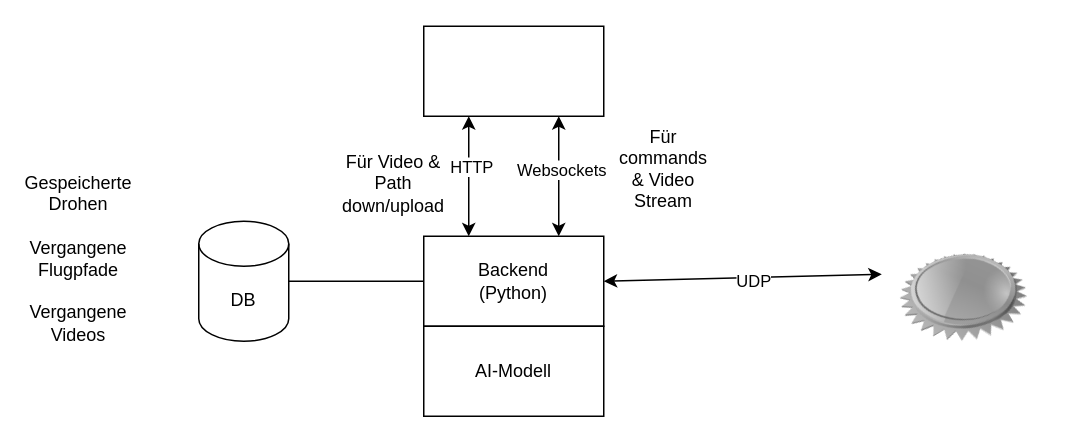
Some shapes in this 1085 by 443 pixel diagram are drawn without their labels. Each missing label, with the centre of its shape:
"Drohne" belongs at (x=963, y=296).
"Frontend (Angular)" belongs at (x=513, y=70).
